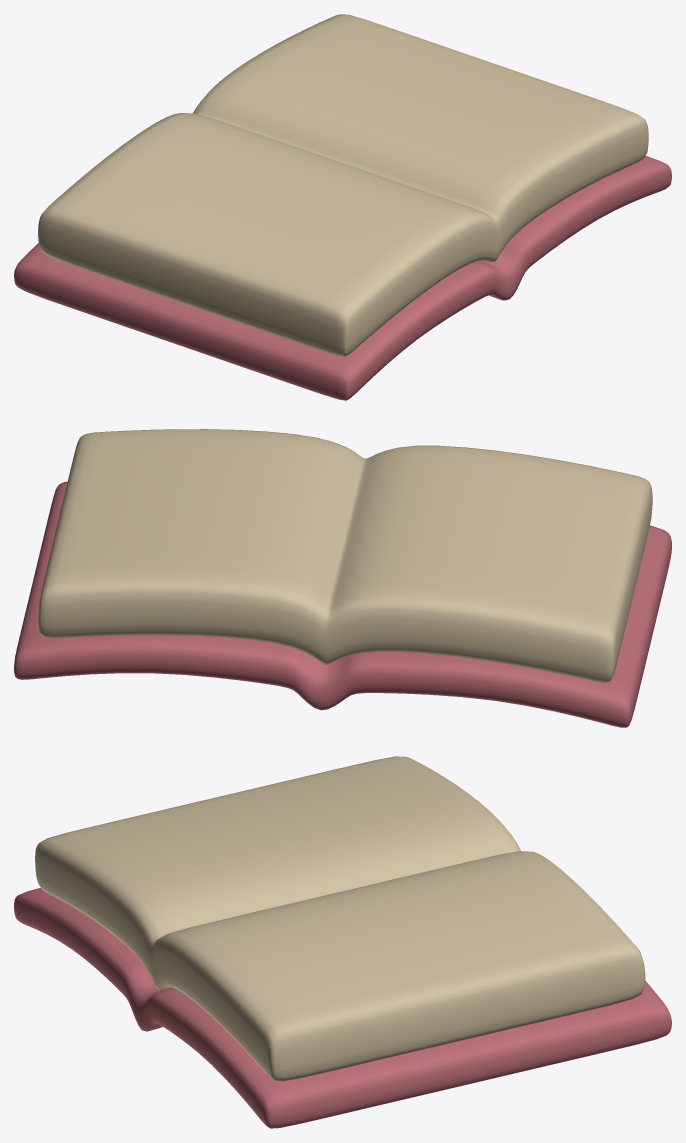
The model's file is journal-open2.glb.
3 renders of one model, top to bottom at view 1: azimuth 30°, elevation 25°; view 2: azimuth 150°, elevation 25°; view 3: azimuth 270°, elevation 25°, orthographic. The views are drawn at different scales.
Visible parts, largest first — view 1: journal-open; view 2: journal-open; view 3: journal-open.
Boxes of the visible parts, bbox=[...] form: journal-open: bbox=[14, 14, 671, 400]; journal-open: bbox=[14, 429, 671, 727]; journal-open: bbox=[14, 756, 671, 1128].
Bounding box in the file's own units: 0.4451 × 0.0889 × 0.3958.
